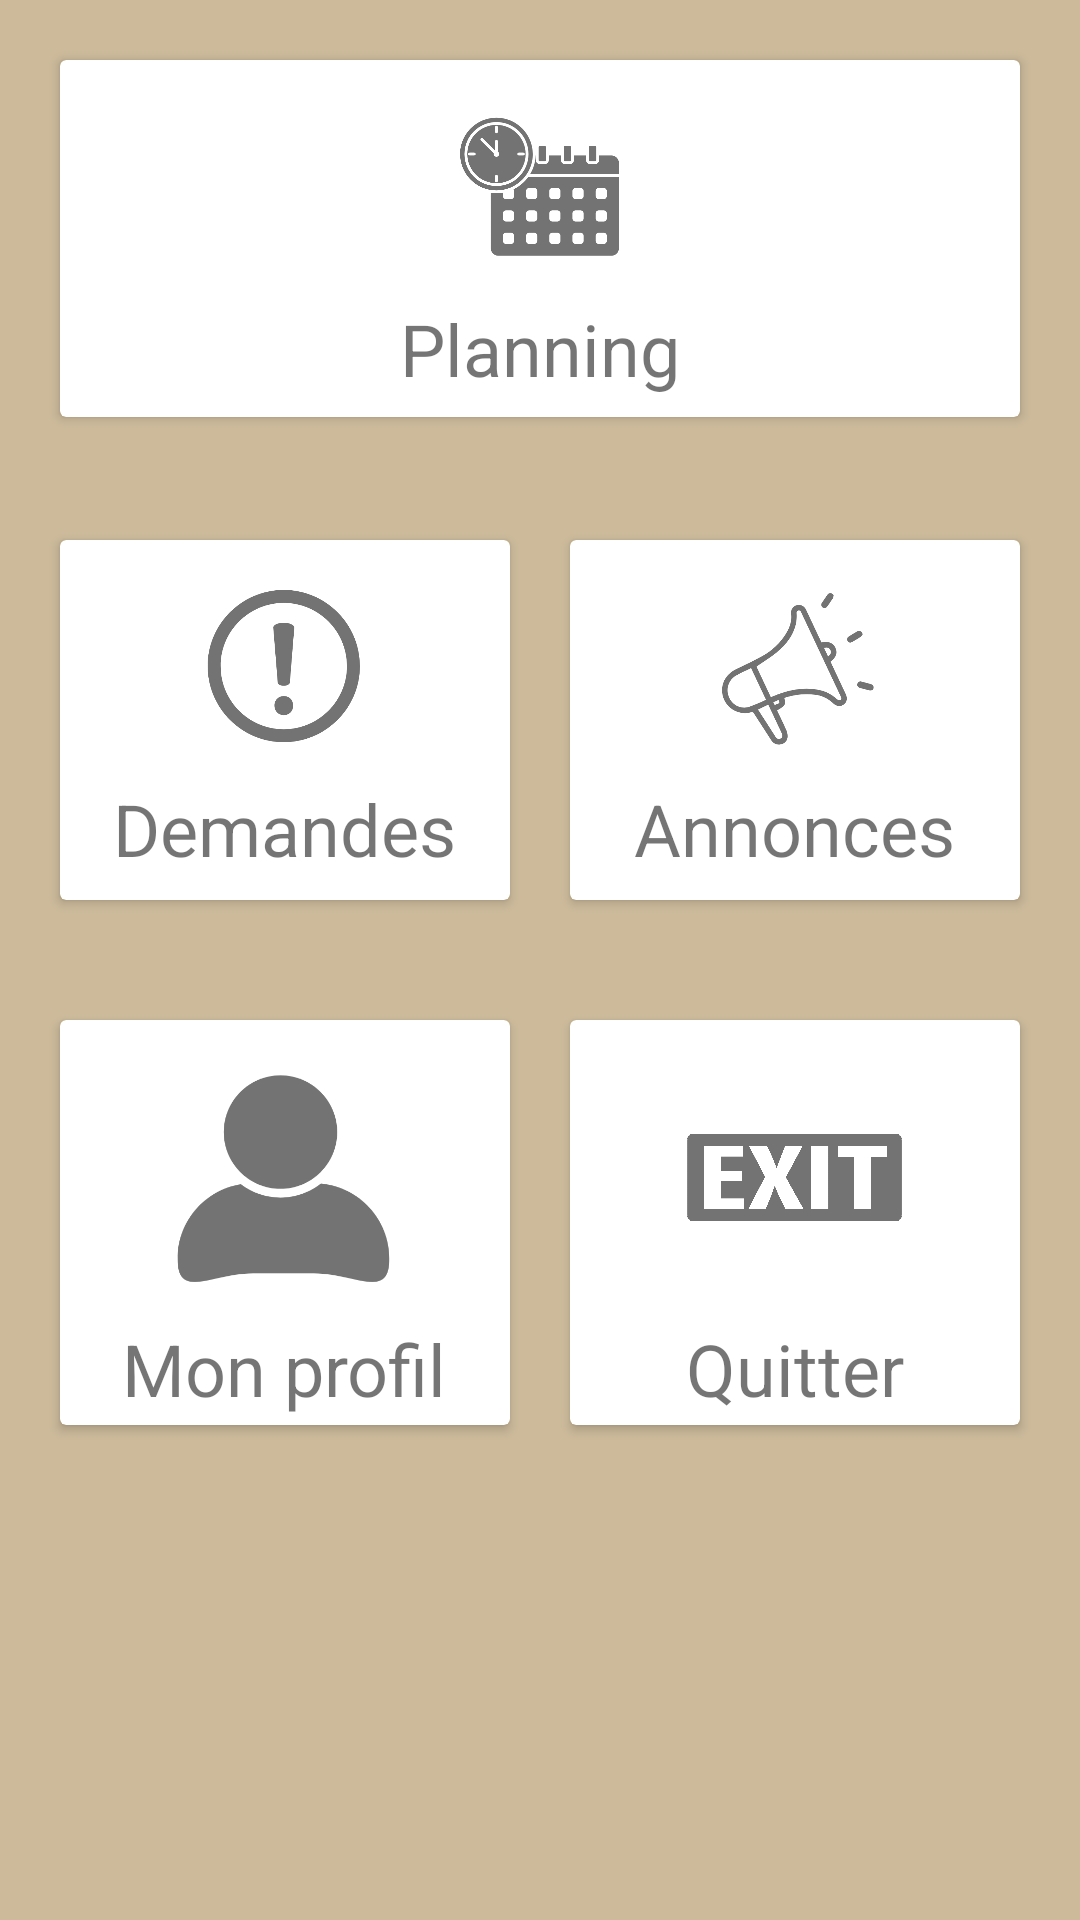

Icons on this 1080×1920 Android screen, each with the point to tap as [x,y]:
calendar: [539,187]
